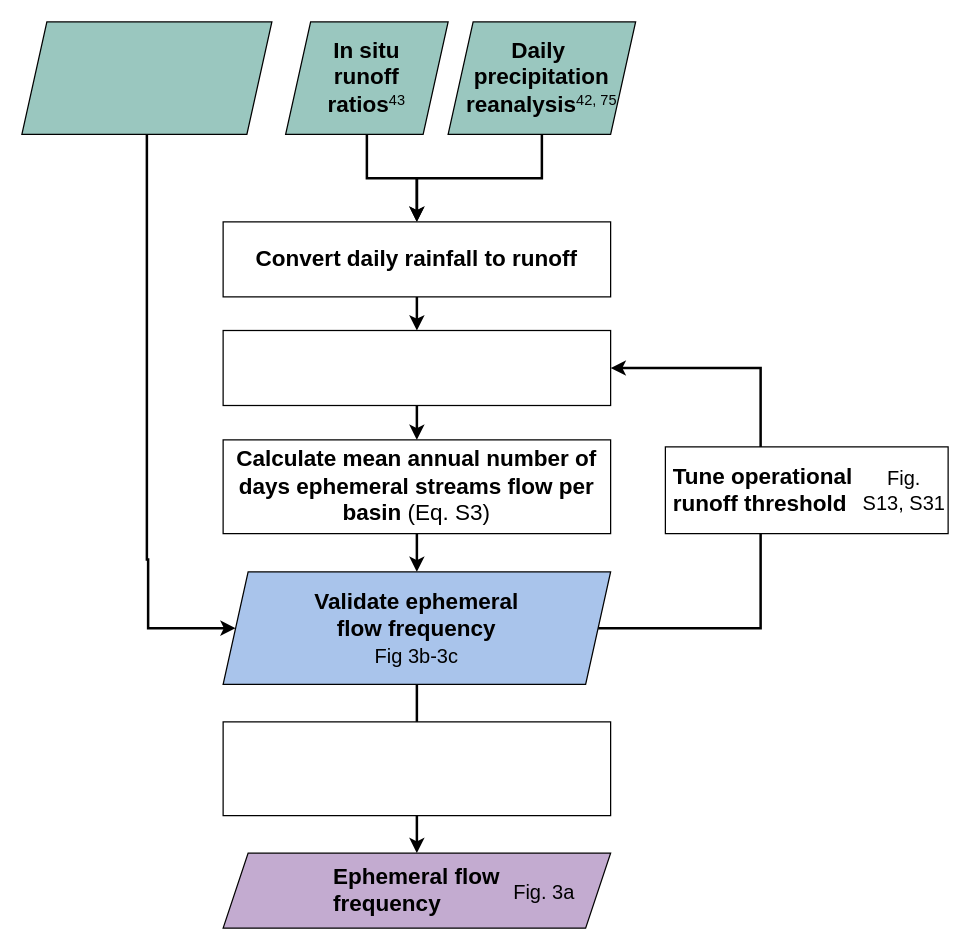
The diagram is 970 pixels wide and 950 high, and some of its shapes have lost their labels. The shapes that lost their labels are listed below. From the top down, each one's centre as x and y in pixels, then its label:
At [146,77]: "In situ ephemeral flow frequency 51-54, 76-83".
At [416,367]: "Set operational runoff threshold".
At [416,768]: "Apply to CONUS".
